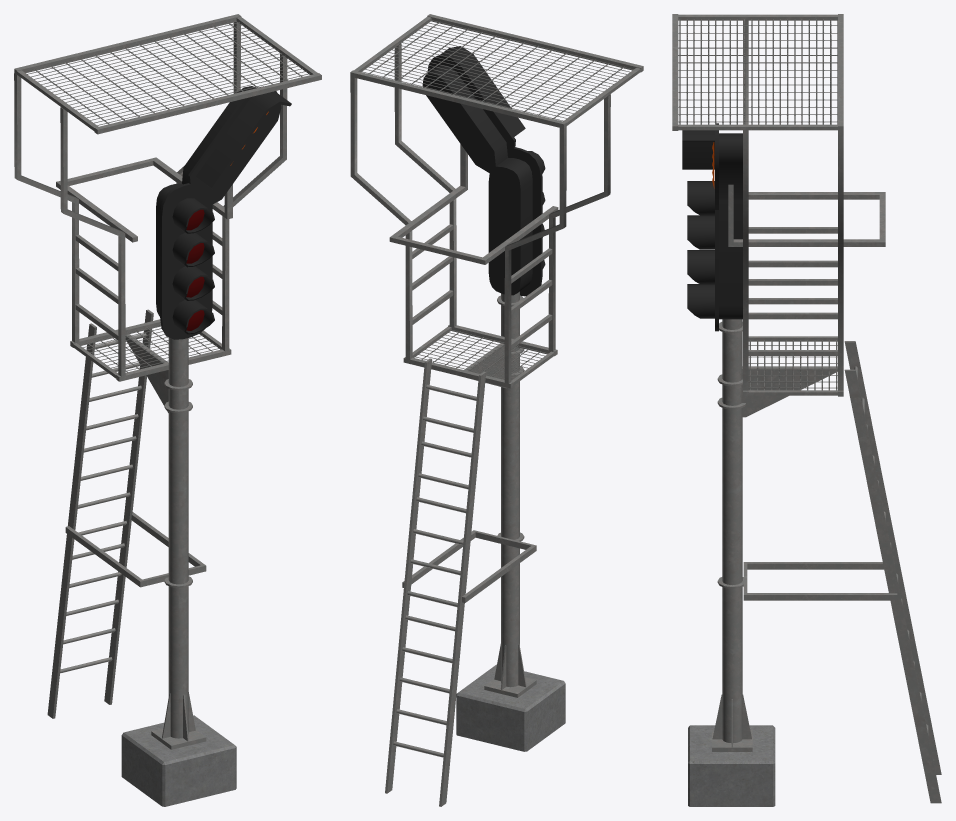
Rendered from rail_signalgantry_sml_B.fbx.
3 renders of one model, left to right at view 1: azimuth 30°, elevation 25°; view 2: azimuth 150°, elevation 25°; view 3: azimuth 270°, elevation 25°, orthographic. The views are drawn at different scales.
Parts seen in each view (by area): view 1: rail_signalgantry_sml_B; view 2: rail_signalgantry_sml_B; view 3: rail_signalgantry_sml_B.
Part boxes in pixels (left/top/right/bottom): rail_signalgantry_sml_B: left=14, top=14, right=321, bottom=806; rail_signalgantry_sml_B: left=350, top=14, right=643, bottom=806; rail_signalgantry_sml_B: left=672, top=14, right=941, bottom=806.
Size of the model in its own units: 2.15 by 6.41 by 2.17.
